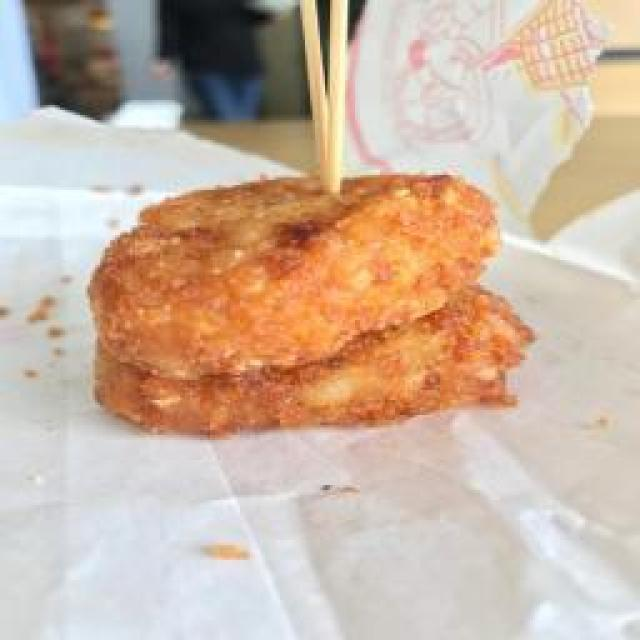triangle_hash_brown: (98, 183, 518, 436)
